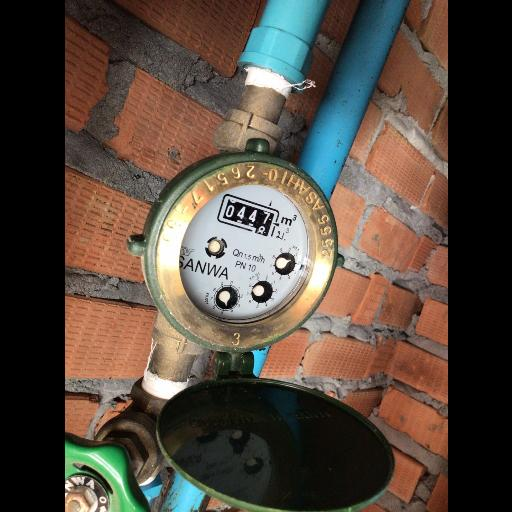0: (222, 199, 239, 222)
4: (233, 202, 250, 224), (244, 206, 261, 228)
7: (254, 210, 274, 237)
border_water_meter_number: (215, 193, 280, 239)
